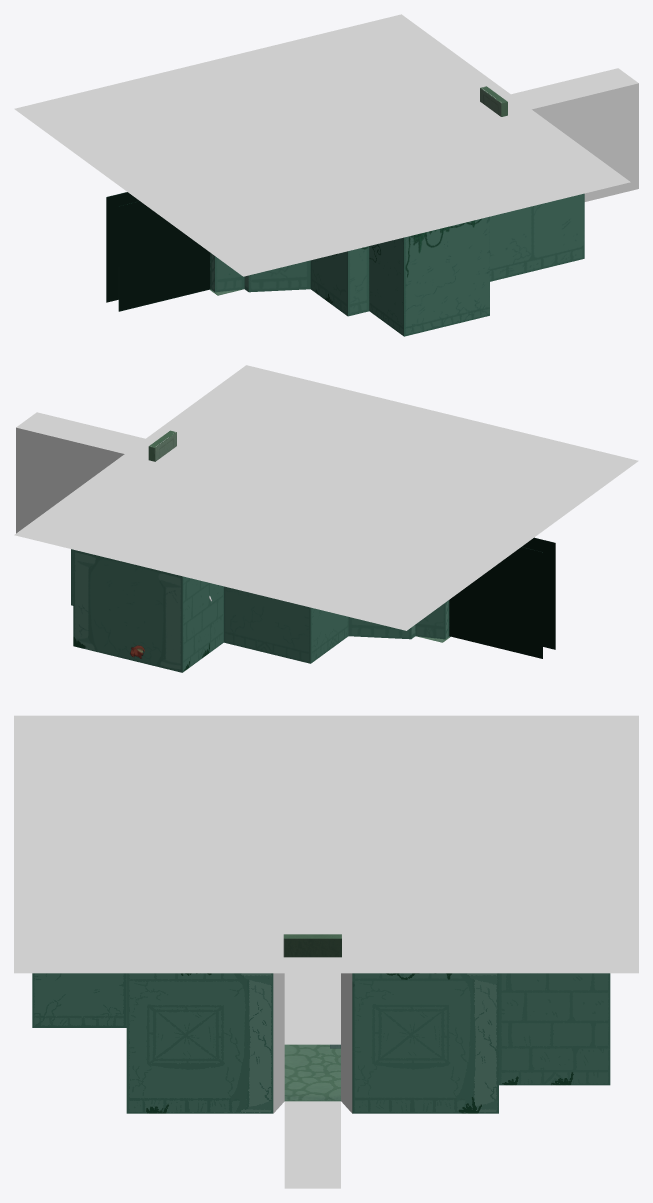
The model's file is Fackla.V2.fbx.
3 views of the same model, one above another, from view 1: azimuth 30°, elevation 25°; view 2: azimuth 150°, elevation 25°; view 3: azimuth 270°, elevation 25° (orthographic). The views are drawn at different scales.
Visible parts, largest first — view 1: Tak, Väggar, Ingång, Dörr; view 2: Tak, Väggar, Ingång, Dörr; view 3: Tak, Väggar, Ingång, Golv, Dörr.
Boxes of the visible parts, x1,y1,x2,y2 form: Tak: [14, 14, 630, 276]; Väggar: [106, 192, 584, 336]; Ingång: [503, 68, 638, 201]; Dörr: [480, 86, 507, 116]; Tak: [14, 365, 638, 630]; Väggar: [71, 537, 555, 672]; Ingång: [16, 412, 150, 533]; Dörr: [148, 430, 176, 461]; Tak: [14, 715, 638, 973]; Väggar: [32, 973, 610, 1113]; Ingång: [273, 957, 352, 1188]; Golv: [284, 1044, 340, 1101]; Dörr: [283, 934, 341, 957].
Size of the model in its own units: 2556 by 578 by 1967.
